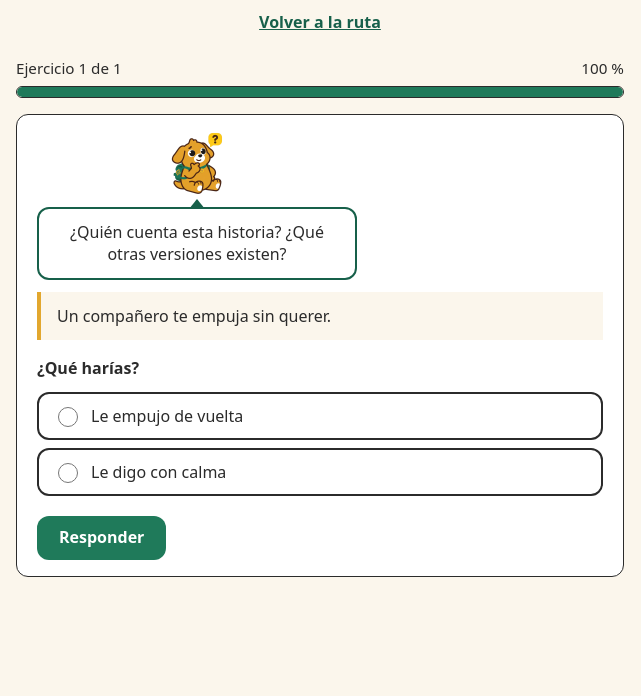
Test: LeccionDetalle — dilema (R3.3) › muestra la reflexión sin marcar correcto/incorrecto
Click the radio button labelled "Le digo con calma" at (68, 473), box [58, 463, 78, 483]
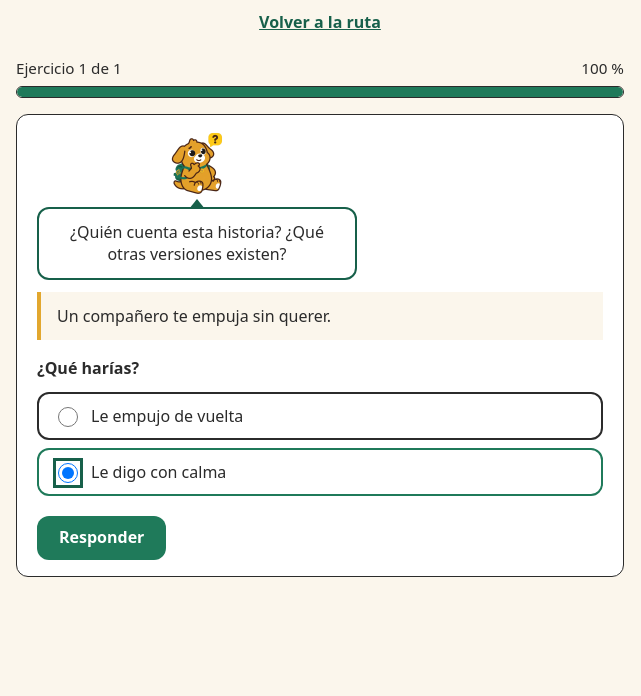
Click the button "Responder" at (102, 538), box [37, 516, 166, 560]
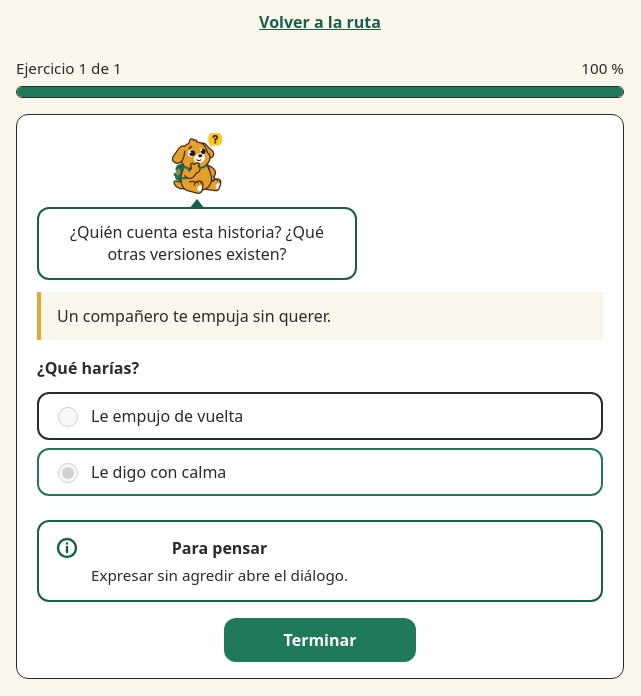
Expected: the message shows "Para pensar", [172, 537, 267, 559]
Expected: the text "Expresar sin agredir abre el diálogo." is shown, [91, 564, 348, 586]
Expected: the button "Terminar" is shown, [224, 618, 416, 662]
